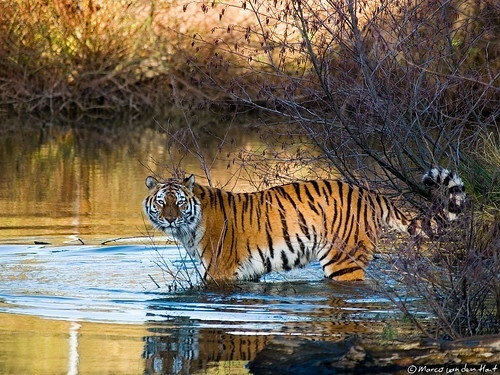tigre: (142, 174, 464, 289)
